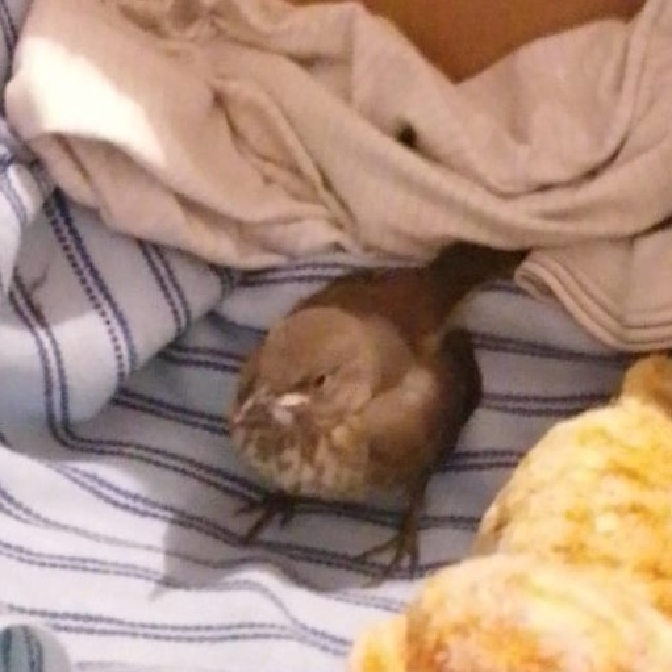Not_a_Chicken: (206, 226, 496, 587)
